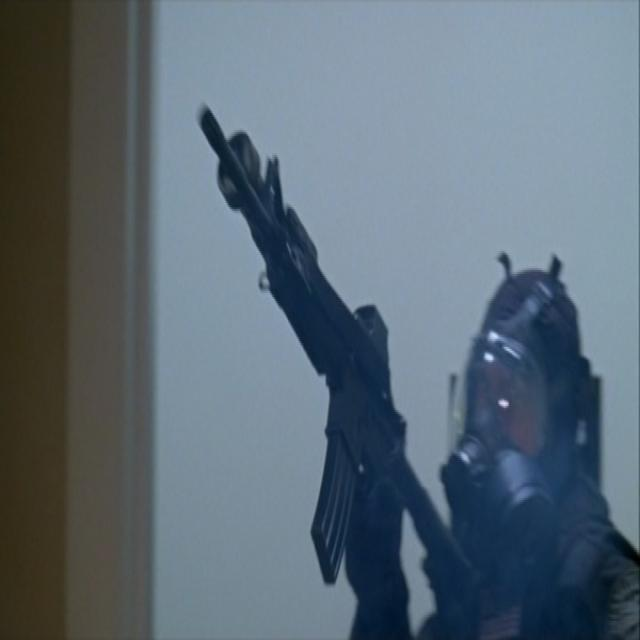rifle: (193, 91, 461, 602)
